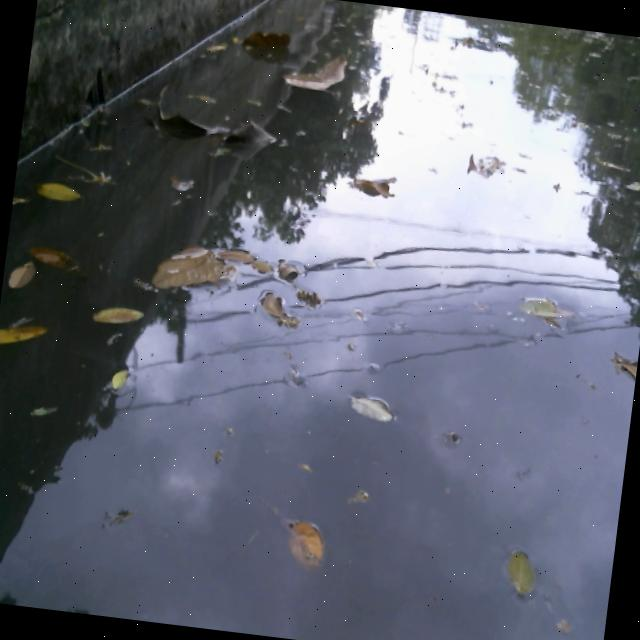Big-leaf: (140, 79, 230, 145), (145, 238, 239, 301), (278, 42, 352, 105), (208, 109, 281, 164), (239, 22, 298, 57)
Small-leaf: (275, 512, 331, 572), (499, 540, 547, 606), (85, 295, 156, 339), (511, 289, 583, 327), (343, 386, 399, 431), (0, 308, 47, 359), (250, 287, 299, 331), (344, 169, 399, 203), (28, 230, 75, 269), (1, 256, 41, 295), (35, 176, 83, 206), (605, 347, 639, 389), (266, 256, 306, 284), (348, 480, 371, 508)
